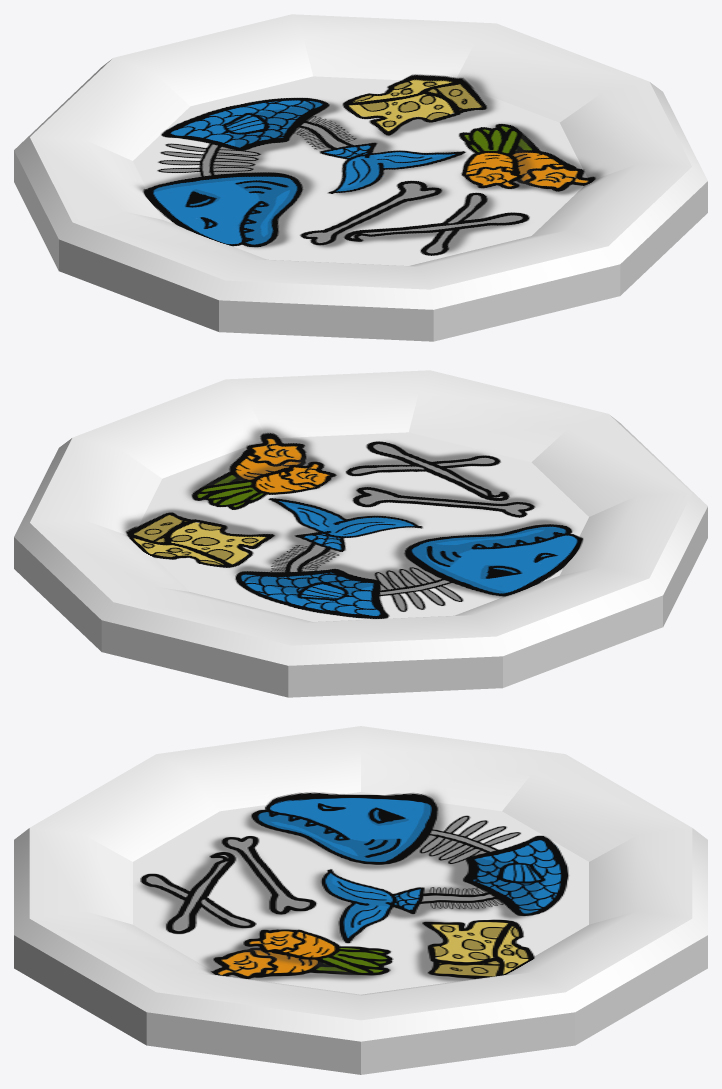
Rendered from geo_H_Plate.fbx.
3 renders of one model, top to bottom at view 1: azimuth 30°, elevation 25°; view 2: azimuth 150°, elevation 25°; view 3: azimuth 270°, elevation 25°, orthographic. The views are drawn at different scales.
Parts seen in each view (by area): view 1: geo_HighEmptyPlate_01; view 2: geo_HighEmptyPlate_01; view 3: geo_HighEmptyPlate_01.
Boxes of the visible parts, x1=… form: geo_HighEmptyPlate_01: x1=14, y1=14, x2=707, y2=341; geo_HighEmptyPlate_01: x1=14, y1=370, x2=707, y2=697; geo_HighEmptyPlate_01: x1=14, y1=726, x2=707, y2=1074.
Bounding box in the file's own units: 28.66 × 2.06 × 27.26.
1 material, 1 textured.
